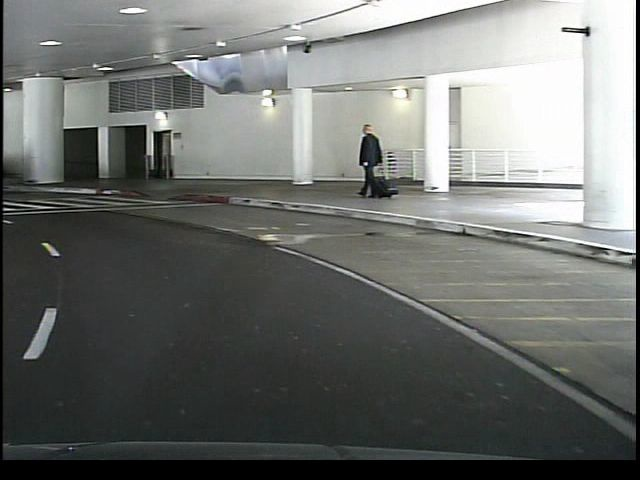person: (350, 121, 383, 199)
